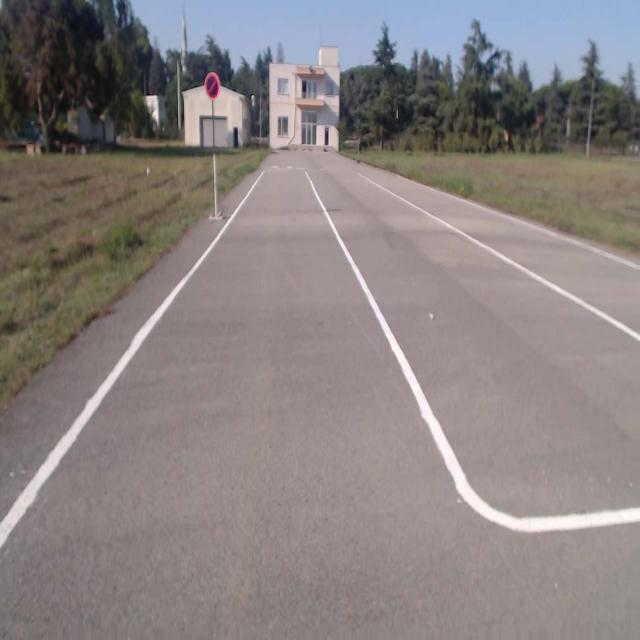parkyasak: (205, 73, 219, 99)
